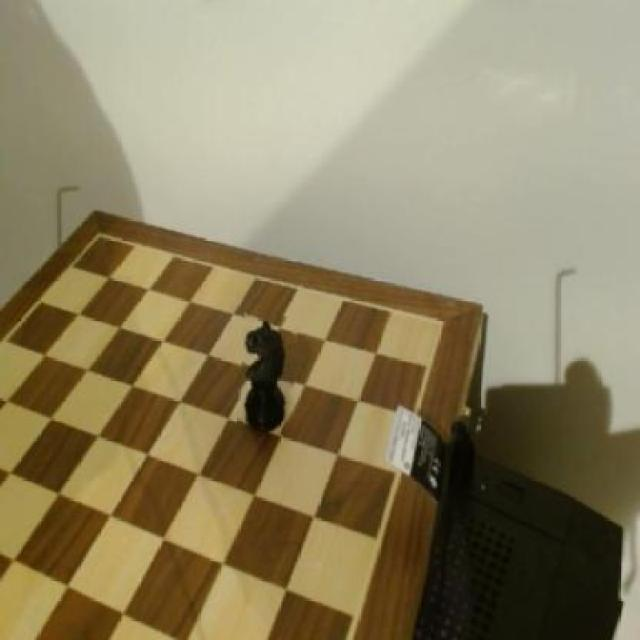black-king: (240, 314, 297, 435)
